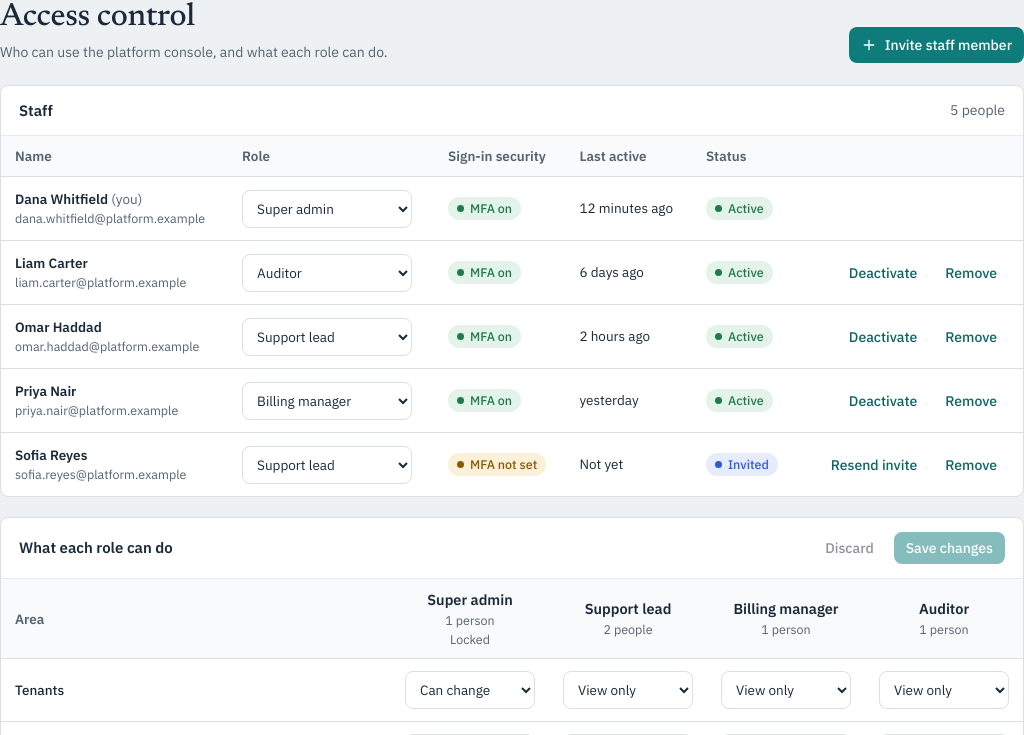
Test: demoting asks first › saves on confirm with the version it loaded, and says so
expect the column heading "Super admin 1 person Locked" is shown: met, box [391,579,549,659]
Select "Auditor" in the dropdown named "Role for Priya Nair" at (327, 401), box [242,382,412,420]
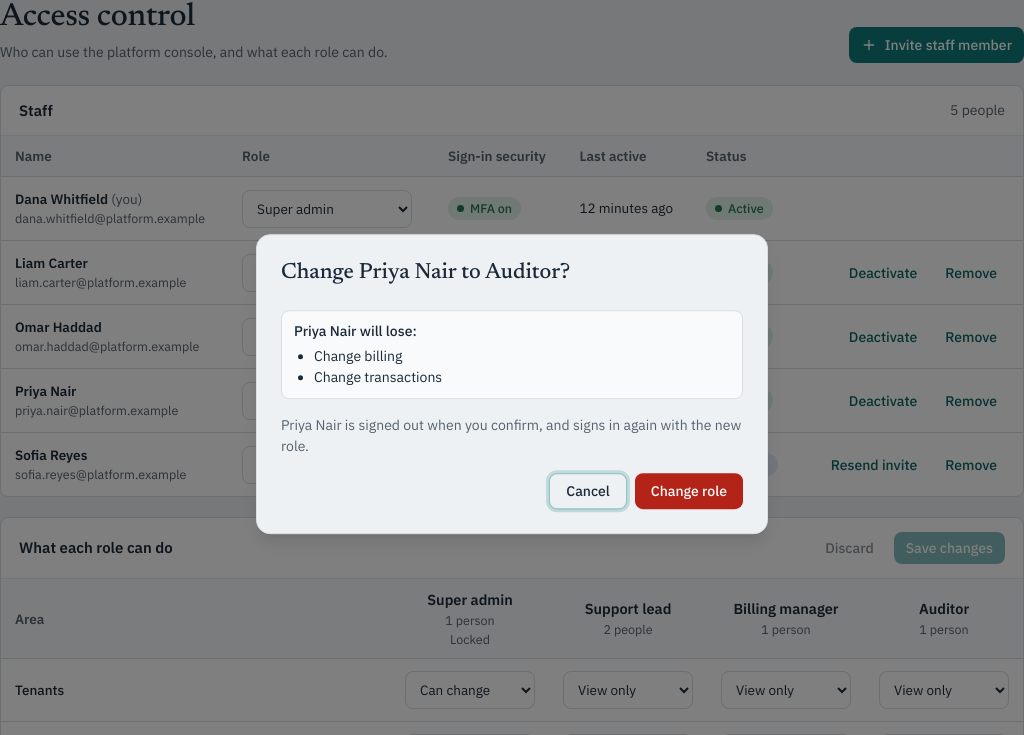
Click the button "Change role" at (689, 491), box [635,473,743,509]
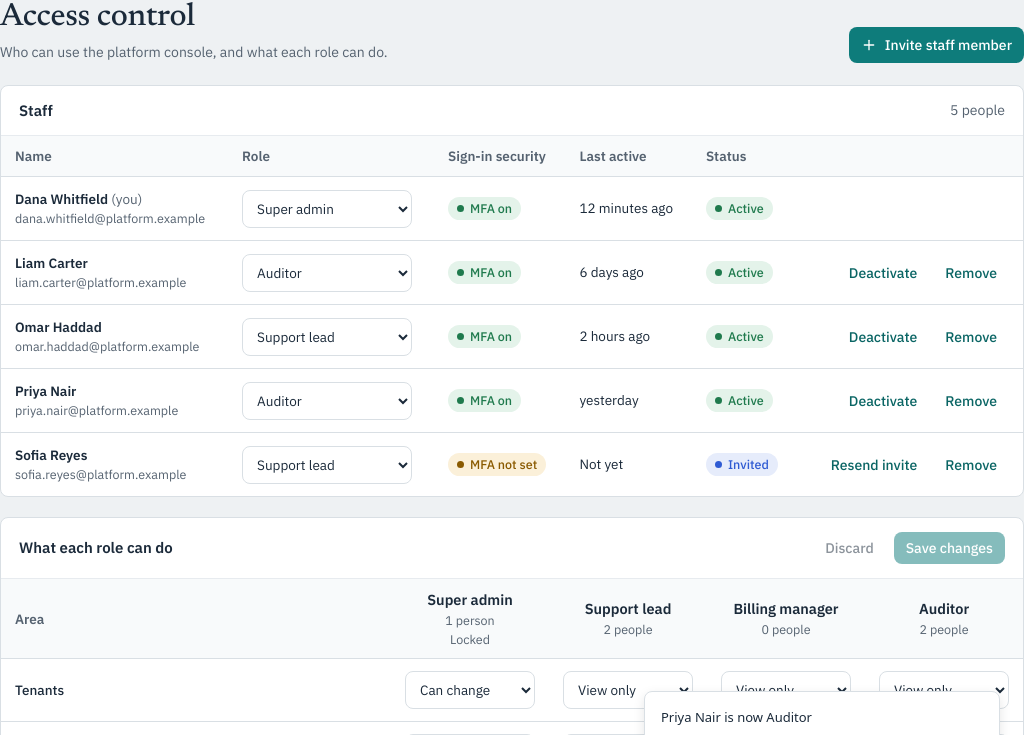
expect the text "Priya Nair is now Auditor" is shown: met, box [661,708,812,727]
expect the dialog is gone: met
